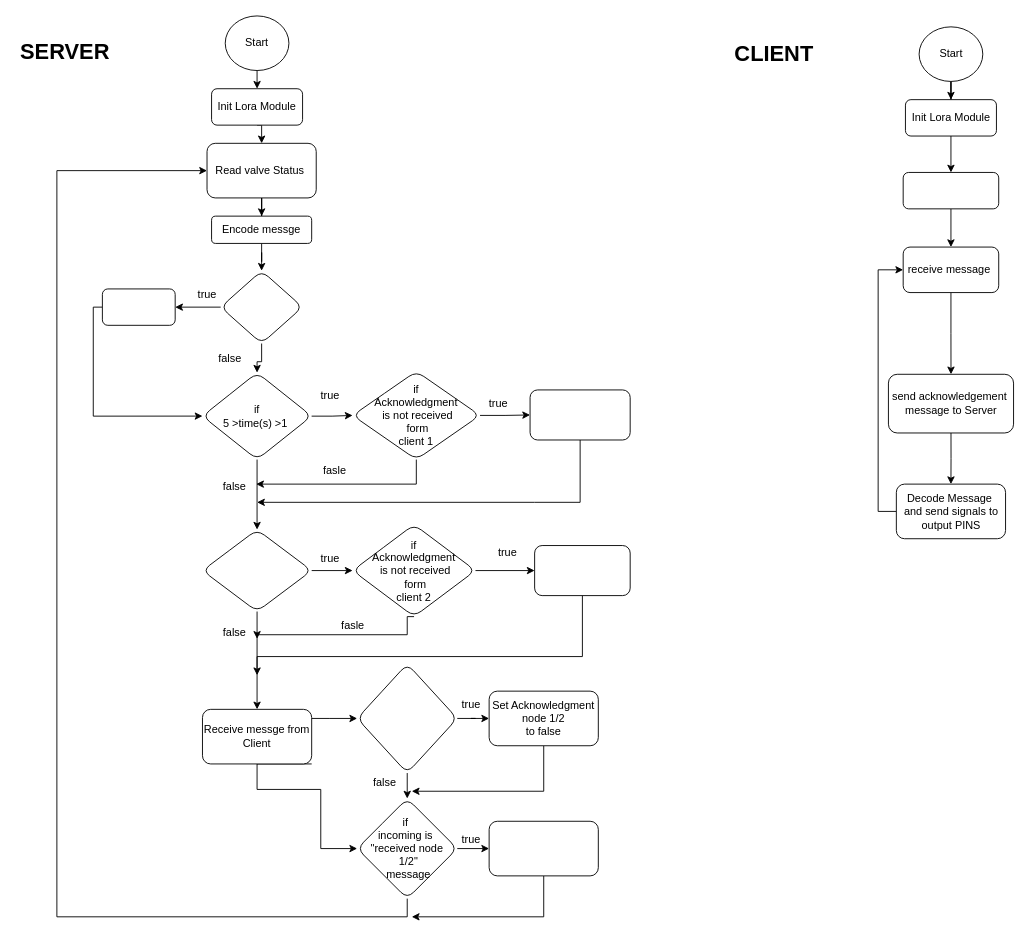
The diagram is 1029 pixels wide and 940 high, and some of its shapes have lost their labels. The shapes that lost their labels are listed below. From the top down, each one's centre as x and y in pixels, then its label:
[950,190]: Send power On message
[138,306]: reset timer
[261,307]: if time >11
[579,414]: send message to node 1
[257,570]: if 10>time(s) >6
[582,570]: Send message to node 2
[406,718]: if incoming is "power on node 1 /2 " message
[543,848]: Set Acknowledgment node1/2 to true
